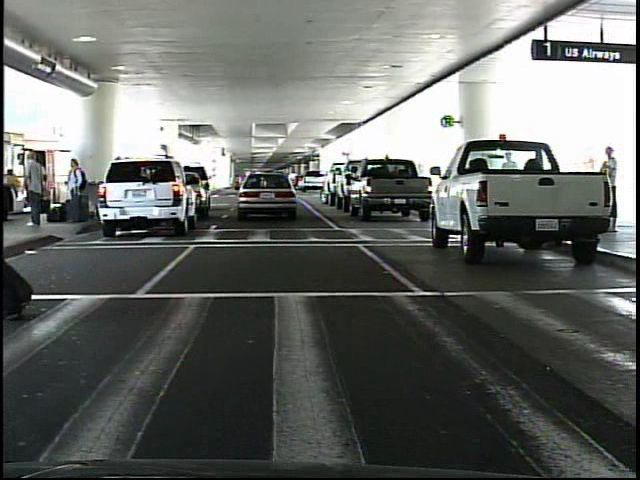person: (591, 144, 624, 230), (22, 150, 49, 227), (62, 156, 86, 225)
